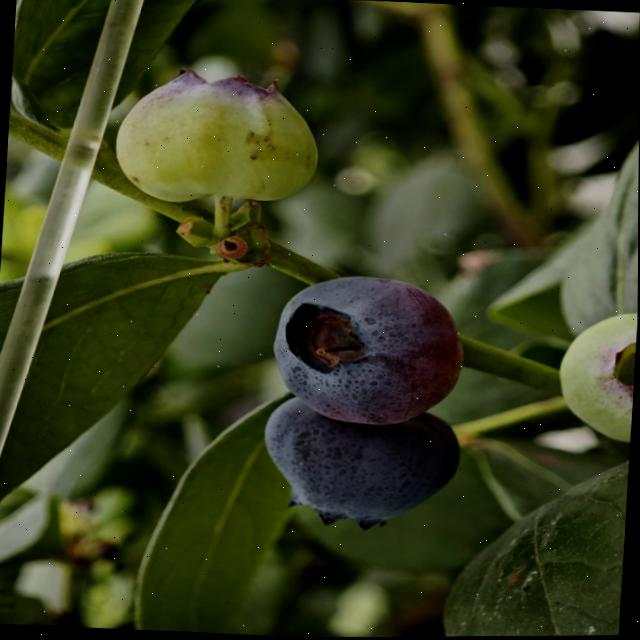RipeBlueBerry: (263, 403, 466, 530)
Semi-RipeBlueBerry: (268, 272, 464, 429)
UnripeBlueBerry: (113, 70, 322, 207)
